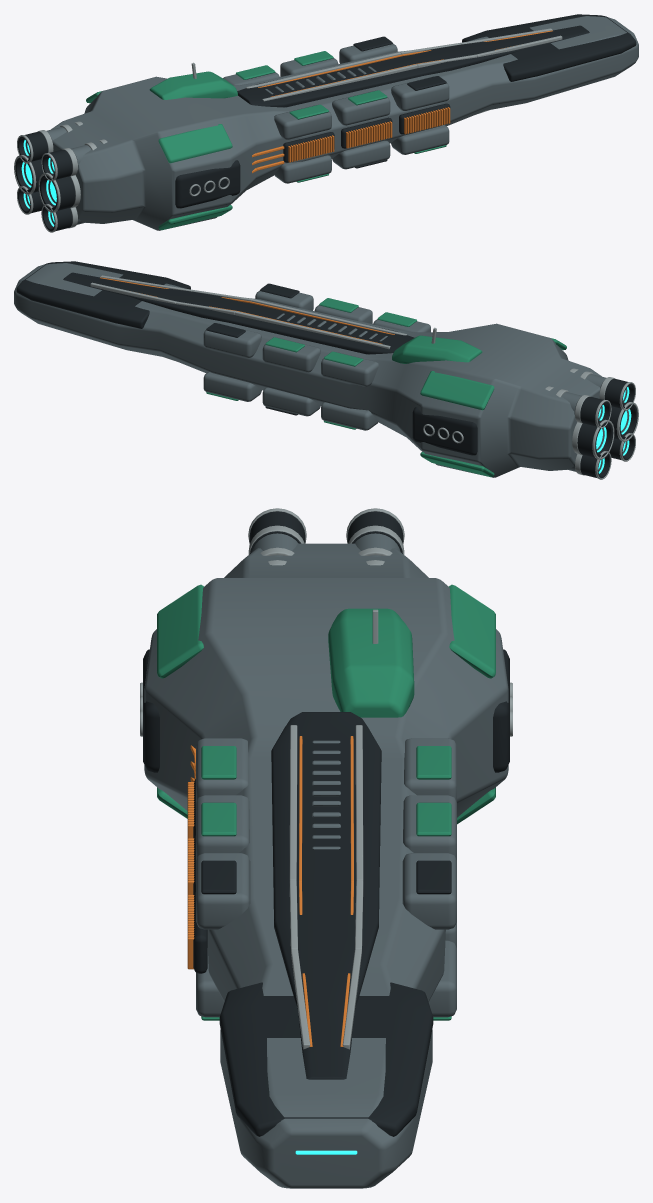
The model's file is shu-artillery.glb.
3 views of the same model, one above another, from view 1: azimuth 30°, elevation 25°; view 2: azimuth 150°, elevation 25°; view 3: azimuth 270°, elevation 25° (orthographic). The views are drawn at different scales.
Parts seen in each view (by area): view 1: Stepped heavy artillery citadel, Recessed axial accelerator bed.001, Overslung armored nose panels, Stepped shoulder machinery casing, Aft shoulder jade ceramic plate.001, Raised port-offset command module, Midships access blister and armor.005, Midships access blister and armor.003, Midships access blister and armor.001, Midships access blister and armor.004, Midships access blister and armor.002, Midships access blister and armor (+23 smaller); view 2: Stepped heavy artillery citadel, Recessed axial accelerator bed.001, Overslung armored nose panels, Stepped shoulder machinery casing.001, Raised port-offset command module, Aft shoulder jade ceramic plate.003, Midships access blister and armor.011, Midships access blister and armor.009, Midships access blister and armor.007, Midships access blister and armor.010, Midships access blister and armor.008, Midships access blister and armor.006 (+20 smaller); view 3: Stepped heavy artillery citadel, Recessed axial accelerator bed.001, Overslung armored nose panels, Raised port-offset command module, Aft shoulder jade ceramic plate.003, Aft shoulder jade ceramic plate.001, Midships access blister and armor.005, Midships access blister and armor.011, Midships access blister and armor.003, Midships access blister and armor.009, Midships access blister and armor.007, Midships access blister and armor.001 (+14 smaller).
Part boxes in pixels (x1=…): Stepped heavy artillery citadel: x1=51, y1=16, x2=638, y2=230; Recessed axial accelerator bed.001: x1=237, y1=25, x2=589, y2=107; Overslung armored nose panels: x1=462, y1=14, x2=636, y2=81; Stepped shoulder machinery casing: x1=175, y1=160, x2=240, y2=208; Aft shoulder jade ceramic plate.001: x1=158, y1=124, x2=232, y2=163; Raised port-offset command module: x1=149, y1=71, x2=237, y2=99; Midships access blister and armor.005: x1=391, y1=76, x2=449, y2=110; Midships access blister and armor.003: x1=332, y1=90, x2=390, y2=125; Midships access blister and armor.001: x1=274, y1=105, x2=331, y2=139; Midships access blister and armor.004: x1=391, y1=125, x2=449, y2=154; Midships access blister and armor.002: x1=332, y1=140, x2=390, y2=169; Midships access blister and armor: x1=274, y1=155, x2=331, y2=183; Stepped heavy artillery citadel: x1=14, y1=263, x2=601, y2=477; Recessed axial accelerator bed.001: x1=63, y1=272, x2=414, y2=354; Overslung armored nose panels: x1=16, y1=261, x2=190, y2=328; Stepped shoulder machinery casing.001: x1=412, y1=407, x2=477, y2=455; Raised port-offset command module: x1=392, y1=335, x2=482, y2=363; Aft shoulder jade ceramic plate.003: x1=420, y1=371, x2=494, y2=410; Midships access blister and armor.011: x1=203, y1=323, x2=261, y2=357; Midships access blister and armor.009: x1=262, y1=337, x2=320, y2=372; Midships access blister and armor.007: x1=321, y1=352, x2=378, y2=386; Midships access blister and armor.010: x1=203, y1=372, x2=261, y2=401; Midships access blister and armor.008: x1=262, y1=387, x2=320, y2=416; Midships access blister and armor.006: x1=321, y1=402, x2=378, y2=430; Stepped heavy artillery citadel: x1=144, y1=543, x2=508, y2=1188; Recessed axial accelerator bed.001: x1=271, y1=712, x2=381, y2=1079; Overslung armored nose panels: x1=219, y1=982, x2=433, y2=1136; Raised port-offset command module: x1=328, y1=608, x2=414, y2=717; Aft shoulder jade ceramic plate.003: x1=448, y1=584, x2=495, y2=678; Aft shoulder jade ceramic plate.001: x1=157, y1=584, x2=204, y2=678; Midships access blister and armor.005: x1=196, y1=853, x2=250, y2=929; Midships access blister and armor.011: x1=402, y1=853, x2=456, y2=929; Midships access blister and armor.003: x1=196, y1=795, x2=249, y2=860; Midships access blister and armor.009: x1=403, y1=795, x2=456, y2=860; Midships access blister and armor.007: x1=404, y1=738, x2=456, y2=802; Midships access blister and armor.001: x1=196, y1=738, x2=248, y2=802.
Bounding box in the file's own units: 900 × 175 × 247.
